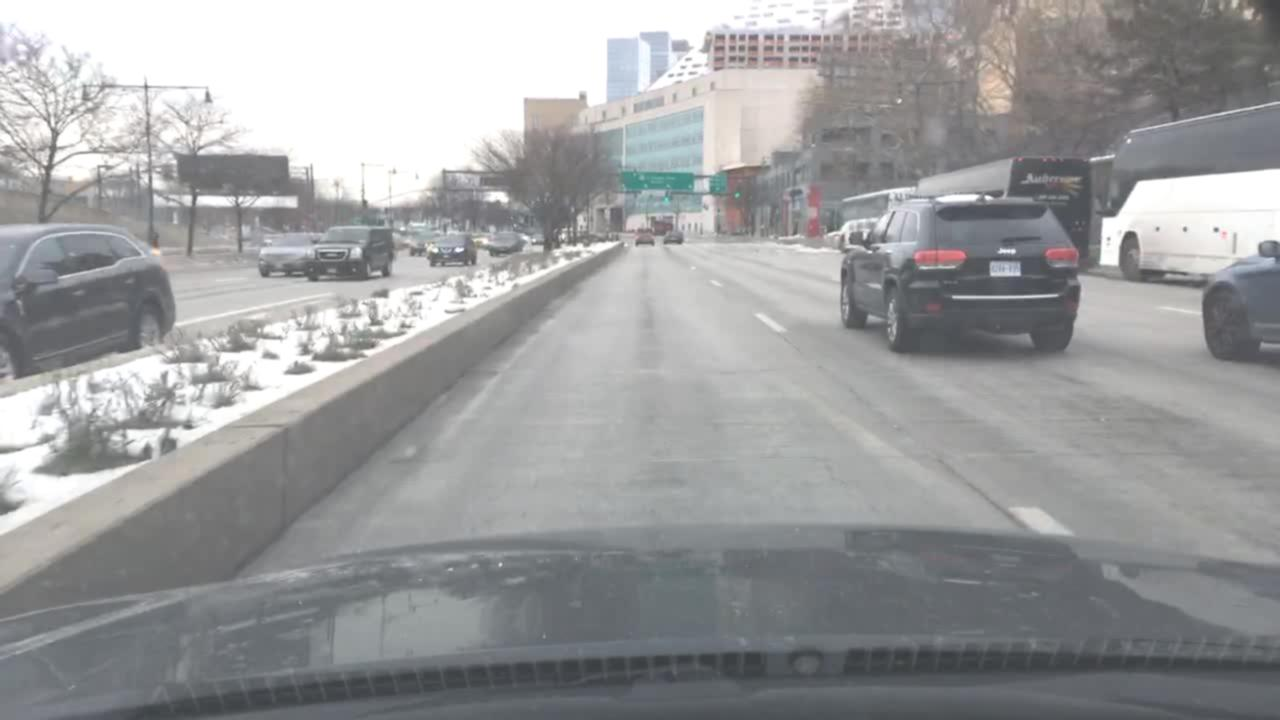jeep: (991, 240, 1029, 261)
